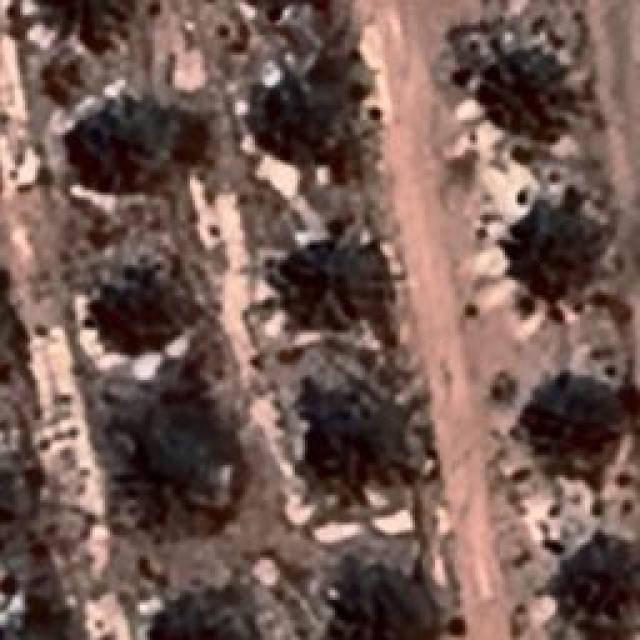PalmTree: (14, 21, 97, 501), (478, 48, 572, 142), (316, 396, 404, 496), (336, 557, 436, 640), (274, 246, 376, 326), (522, 209, 602, 309), (268, 76, 360, 159), (120, 404, 208, 484), (81, 102, 181, 166), (540, 374, 612, 462), (157, 575, 250, 640), (577, 545, 640, 640), (105, 275, 190, 333), (0, 454, 19, 544)
